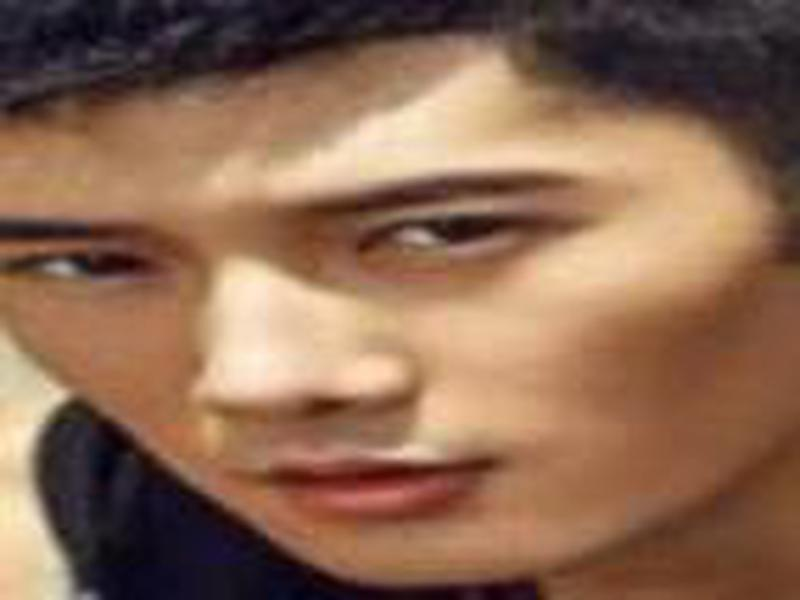without_mask: (1, 53, 748, 600)
